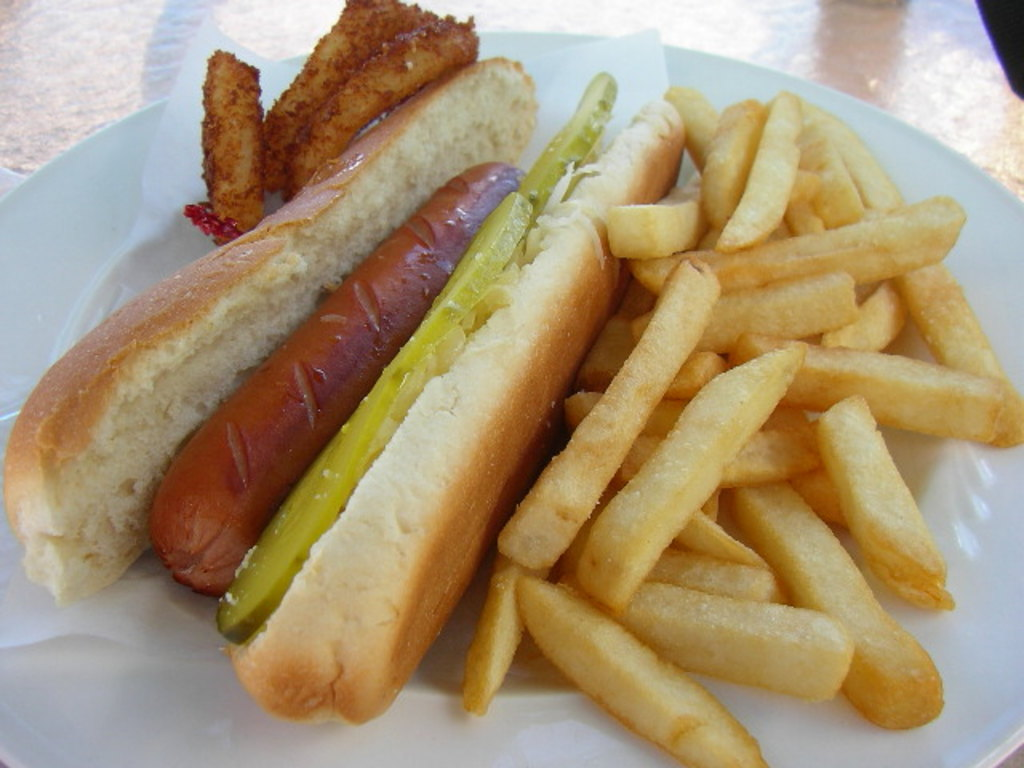French fries: (366, 72, 995, 768)
